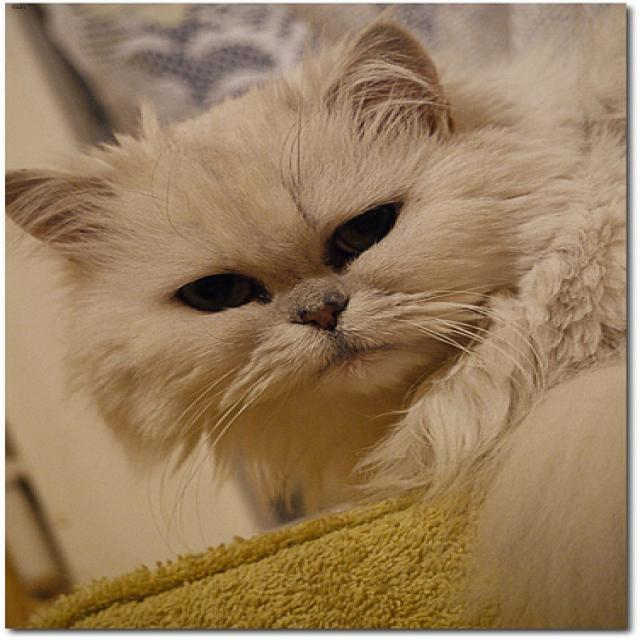Persian: (4, 19, 479, 392)
